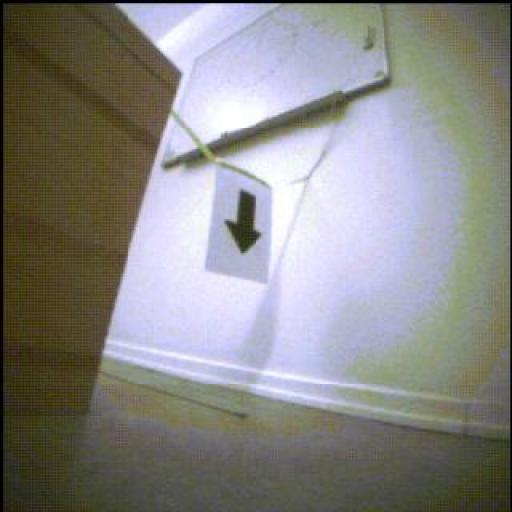arrow: (227, 191, 262, 254)
